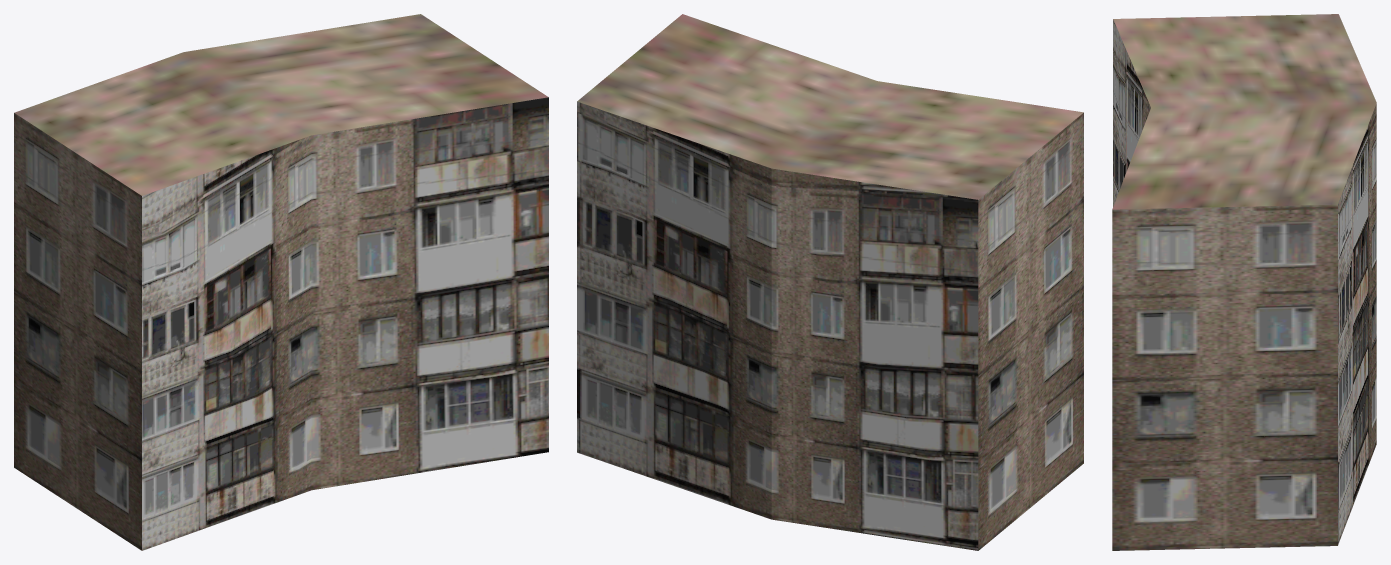
File: house03.glb
3 views of the same model, side by side, from view 1: azimuth 30°, elevation 25°; view 2: azimuth 150°, elevation 25°; view 3: azimuth 270°, elevation 25° (orthographic). The views are drawn at different scales.
Visible parts, largest first — view 1: house03; view 2: house03; view 3: house03.
Part boxes in pixels (x1,y1,x2,y2): house03: [14, 14, 548, 550]; house03: [577, 14, 1083, 550]; house03: [1112, 14, 1376, 550].
Size of the model in its own units: 4.92 by 4 by 2.81.
1 material, 1 textured.
